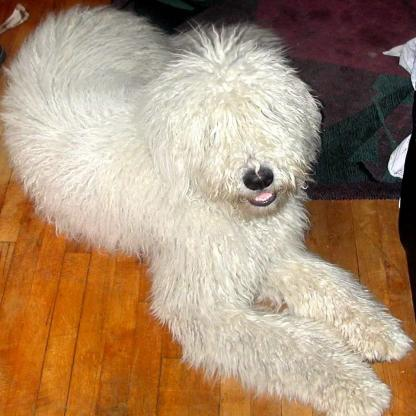komondor: (7, 22, 404, 414)
